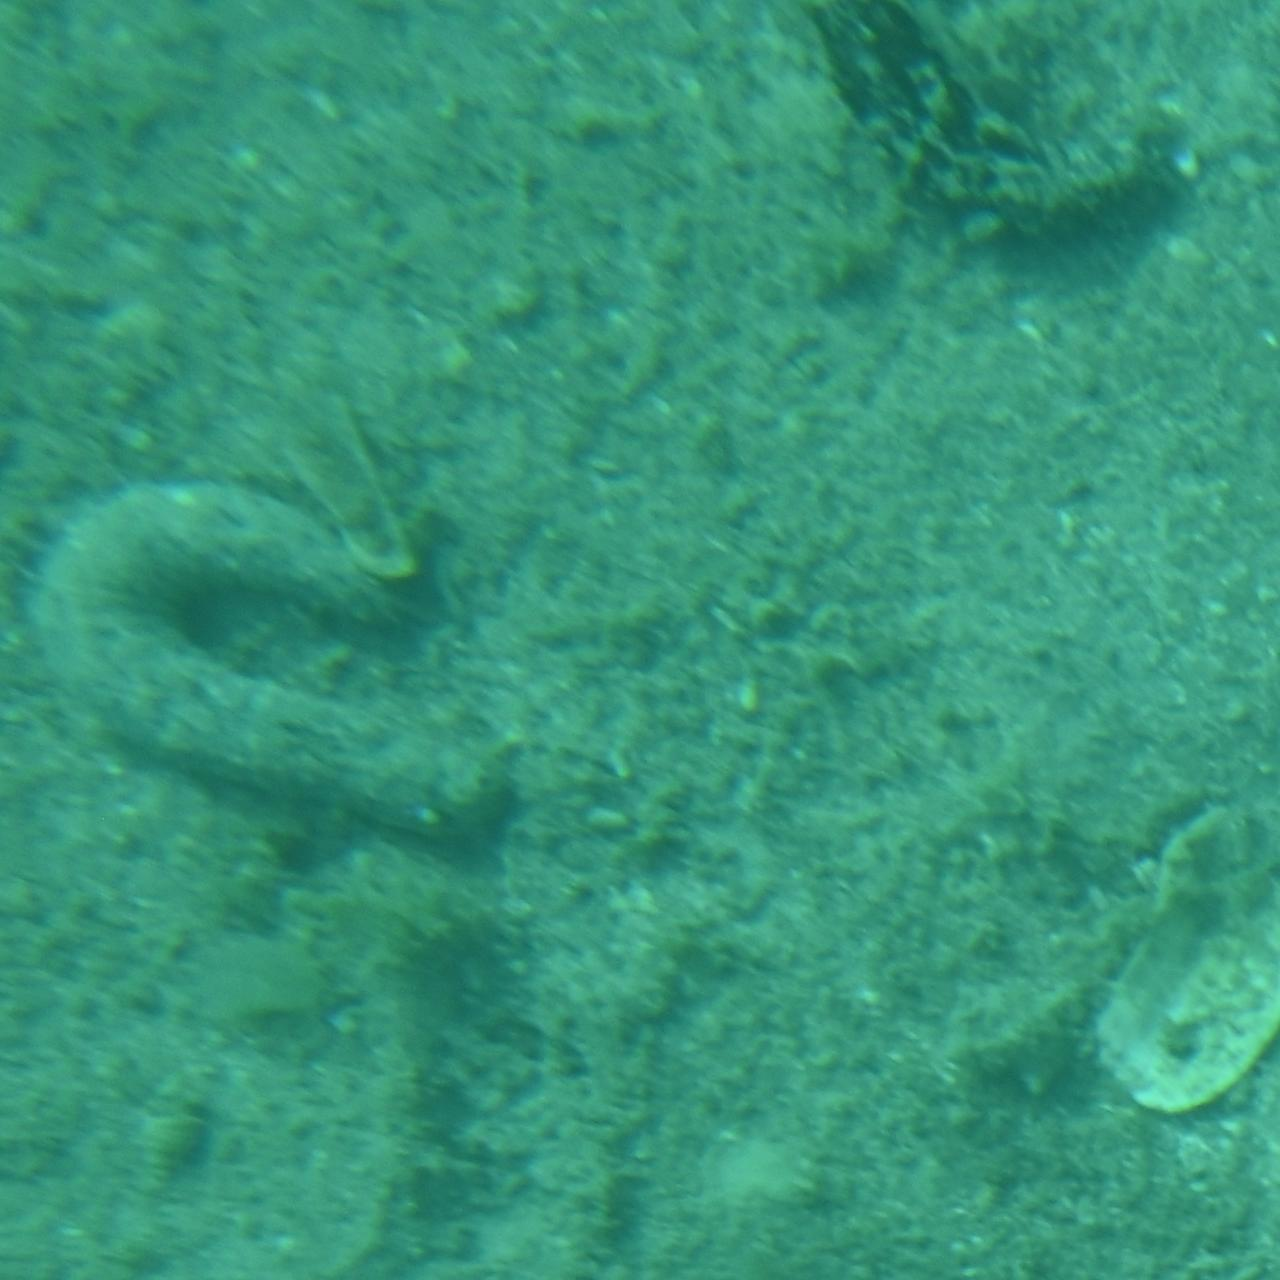Holothuria tubulosa: (5, 474, 529, 865), (788, 4, 1240, 273)
